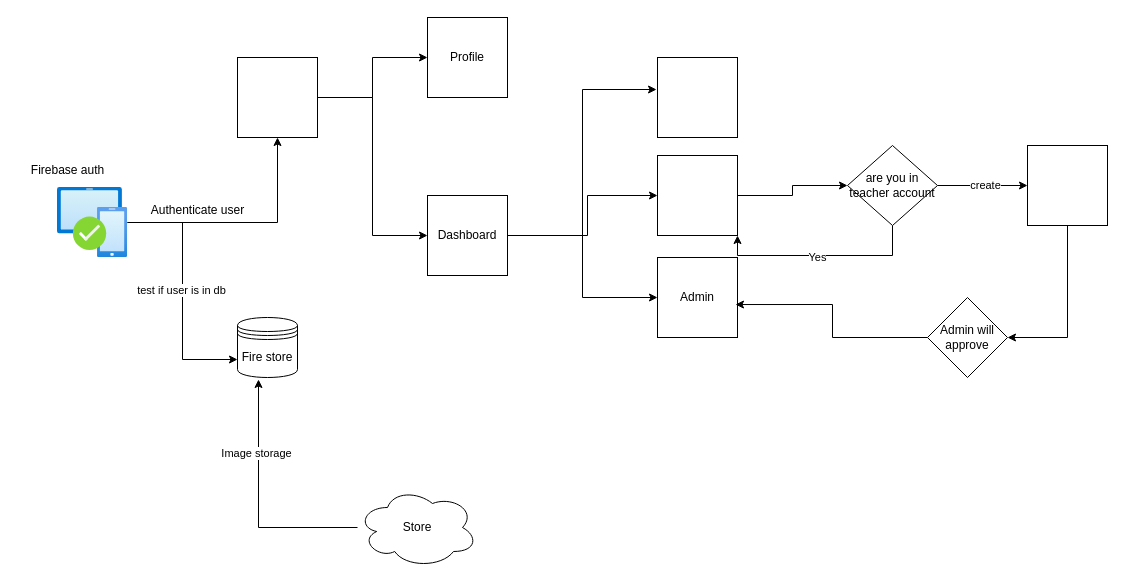
Some shapes in this 1125 by 585 pixel diagram are drawn without their labels. Each missing label, with the box of its shape:
Apply for teacher position: (1026, 144, 1108, 226)
Home screen: (236, 56, 318, 138)
Teacher: (656, 154, 738, 236)
User(student): (656, 56, 738, 138)
